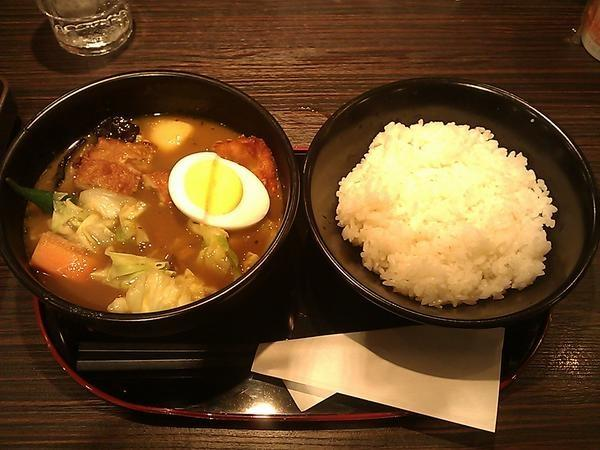rice: (336, 120, 556, 306)
